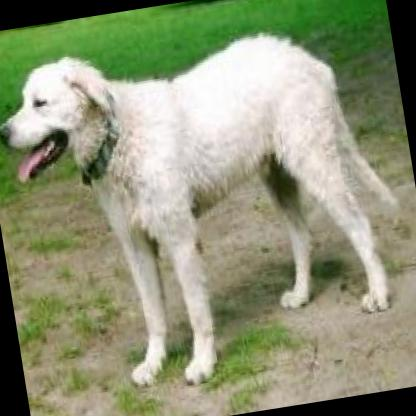kuvasz: (0, 6, 416, 412)
